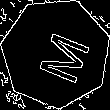M_W: (24, 22, 87, 84)
